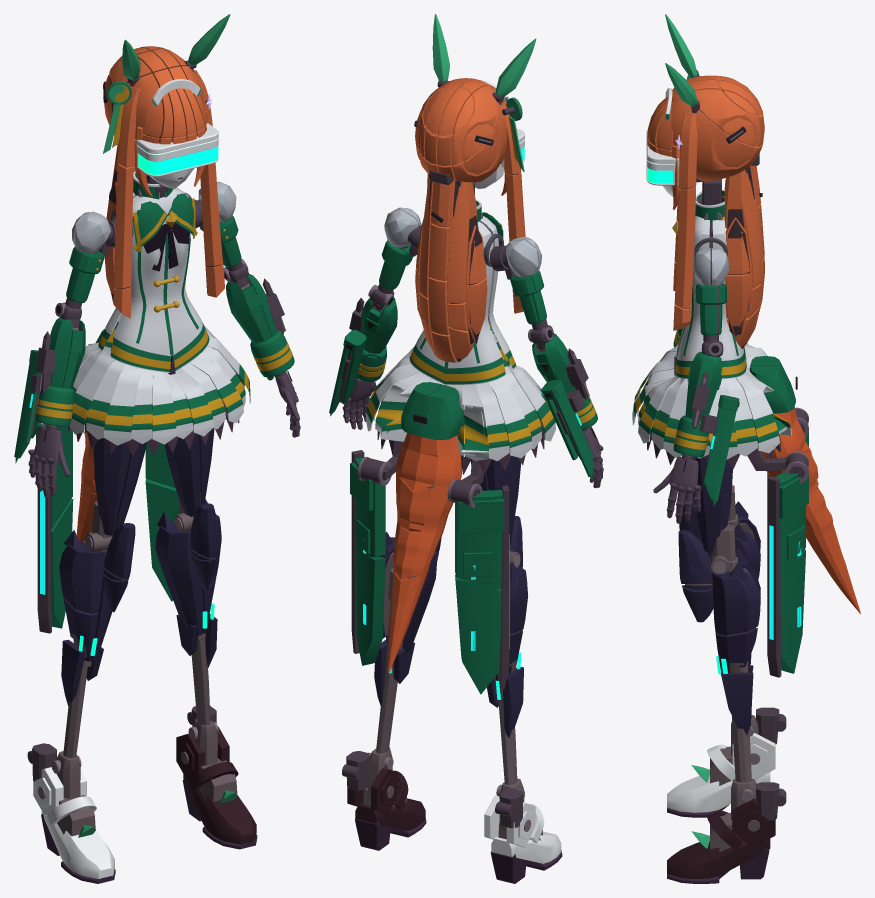
The model's file is suzuka.glb.
3 views of the same model, side by side, from view 1: azimuth 30°, elevation 25°; view 2: azimuth 150°, elevation 25°; view 3: azimuth 270°, elevation 25° (orthographic). The views are drawn at different scales.
Visible parts, largest first — view 1: Shirt_FrontR, Hair_Side_R, Leg_ShinOuter_R, Leg_Thigh_R, Leg_ShinInner_L, Shirt_FrontL, Hair_BackShell, Hair_Bangs, Leg_Thigh_L, Hair_Side_L, Shoe_Upper_L, Shoe_Upper_R (+49 smaller); view 2: Hair_BackShell, Gear_WaistPanelB_R, Hair_Back_MR, Shirt_Back, Hair_Back_C, Tail_Seg1, Gear_WaistPanelB_L, Gear_WaistBase, Tail_Seg2, Gear_WaistPanelA_R, Tail_Seg3, Tail_Seg4 (+43 smaller); view 3: Hair_BackShell, Leg_ShinOuter_L, Hair_Side_L, Hair_Back_ML, Shoe_Upper_L, Gear_WaistFrame_L, Leg_KneeShield_L, Gear_WaistPanelB_L, Hair_Back_OL, Leg_Thigh_L, Shoe_Upper_R, Shirt_FrontL (+42 smaller).
Part boxes in pixels (x1=…): Shirt_FrontR: x1=110, y1=195, x2=171, y2=372; Hair_Side_R: x1=113, y1=86, x2=140, y2=318; Leg_ShinOuter_R: x1=59, y1=540, x2=105, y2=661; Leg_Thigh_R: x1=93, y1=438, x2=146, y2=535; Leg_ShinInner_L: x1=155, y1=519, x2=202, y2=635; Shirt_FrontL: x1=162, y1=188, x2=209, y2=371; Hair_BackShell: x1=104, y1=46, x2=203, y2=154; Hair_Bangs: x1=142, y1=88, x2=206, y2=144; Leg_Thigh_L: x1=164, y1=428, x2=214, y2=516; Hair_Side_L: x1=194, y1=70, x2=224, y2=297; Shoe_Upper_L: x1=183, y1=774, x2=256, y2=844; Shoe_Upper_R: x1=41, y1=811, x2=114, y2=878; Hair_BackShell: x1=415, y1=78, x2=507, y2=182; Gear_WaistPanelB_R: x1=455, y1=575, x2=501, y2=694; Hair_Back_MR: x1=447, y1=180, x2=477, y2=362; Shirt_Back: x1=409, y1=221, x2=505, y2=384; Hair_Back_C: x1=428, y1=182, x2=456, y2=362; Tail_Seg1: x1=396, y1=433, x2=461, y2=490; Gear_WaistPanelB_L: x1=355, y1=555, x2=385, y2=665; Gear_WaistBase: x1=401, y1=382, x2=463, y2=439; Tail_Seg2: x1=396, y1=475, x2=453, y2=533; Gear_WaistPanelA_R: x1=455, y1=490, x2=502, y2=589; Tail_Seg3: x1=393, y1=523, x2=442, y2=579; Tail_Seg4: x1=387, y1=570, x2=426, y2=674; Hair_BackShell: x1=671, y1=75, x2=764, y2=180; Leg_ShinOuter_L: x1=712, y1=571, x2=760, y2=672; Hair_Side_L: x1=673, y1=112, x2=697, y2=330; Hair_Back_ML: x1=724, y1=165, x2=762, y2=348; Shoe_Upper_L: x1=667, y1=838, x2=770, y2=878; Gear_WaistFrame_L: x1=767, y1=476, x2=781, y2=677; Leg_KneeShield_L: x1=678, y1=530, x2=713, y2=622; Gear_WaistPanelB_L: x1=780, y1=550, x2=805, y2=673; Hair_Back_OL: x1=725, y1=217, x2=752, y2=336; Leg_Thigh_L: x1=693, y1=457, x2=732, y2=552; Shoe_Upper_R: x1=667, y1=772, x2=770, y2=812; Shirt_FrontL: x1=675, y1=216, x2=709, y2=378.
Size of the model in its own units: 5.79 by 16.97 by 4.38.
